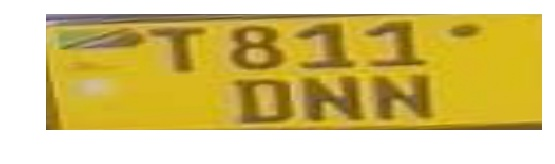T: (147, 23, 217, 80)
